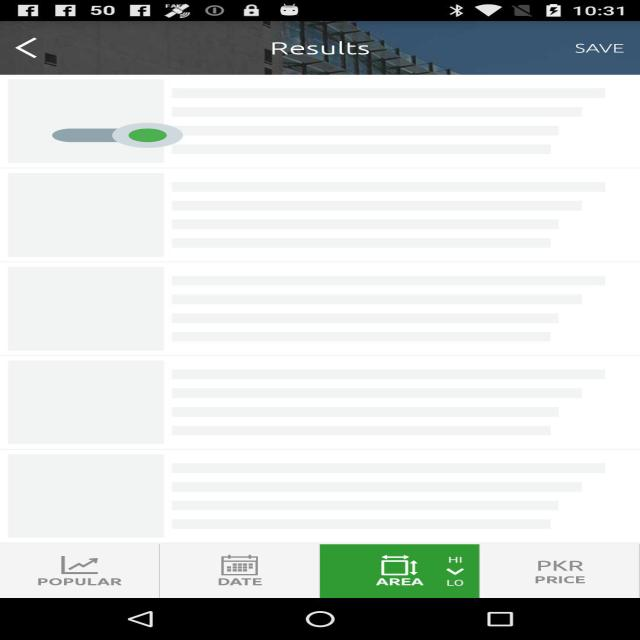social proof: (52, 112, 183, 159)
